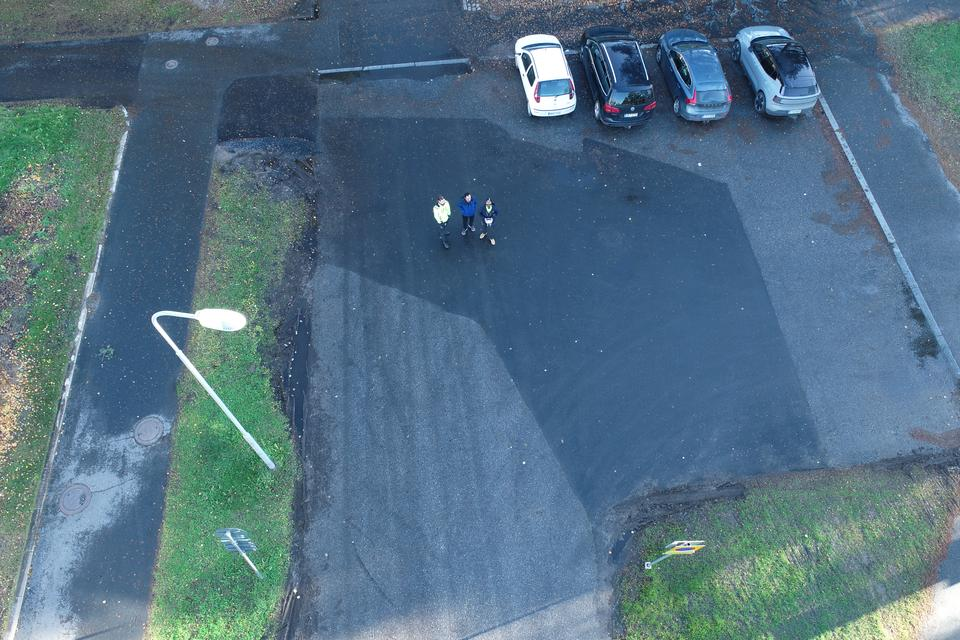intersection: (27, 0, 344, 160)
